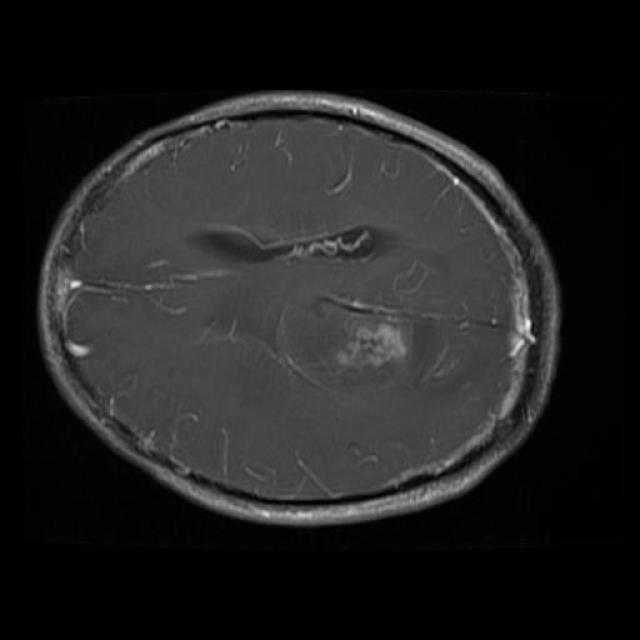Glioma: (311, 271, 444, 385)
